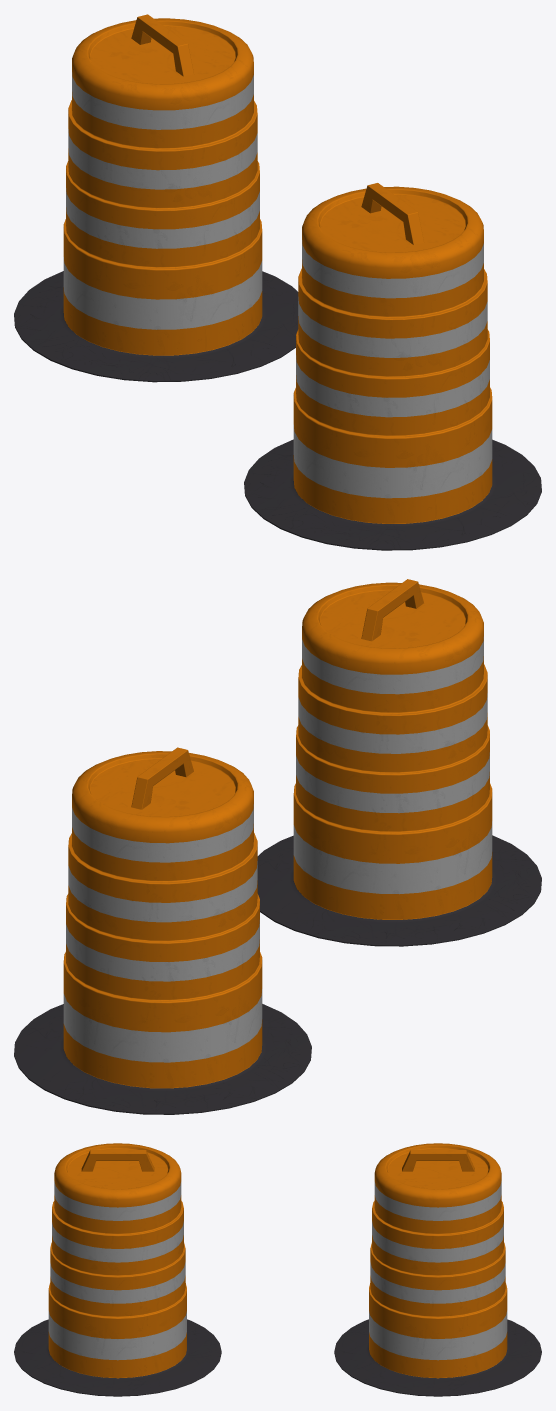
File: TrafficDrums.fbx
3 renders of one model, top to bottom at view 1: azimuth 30°, elevation 25°; view 2: azimuth 150°, elevation 25°; view 3: azimuth 270°, elevation 25°, orthographic. The views are drawn at different scales.
Parts seen in each view (by area): view 1: Drum.001, Drum; view 2: Drum, Drum.001; view 3: Drum, Drum.001.
Boxes of the visible parts, bbox=[...] form: Drum.001: bbox=[244, 183, 541, 550]; Drum: bbox=[14, 14, 298, 382]; Drum: bbox=[14, 747, 311, 1114]; Drum.001: bbox=[257, 579, 541, 946]; Drum: bbox=[334, 1143, 541, 1396]; Drum.001: bbox=[14, 1143, 221, 1396].
Bounding box in the file's own units: 99.51 × 106 × 253.
6 materials, 6 textured.
